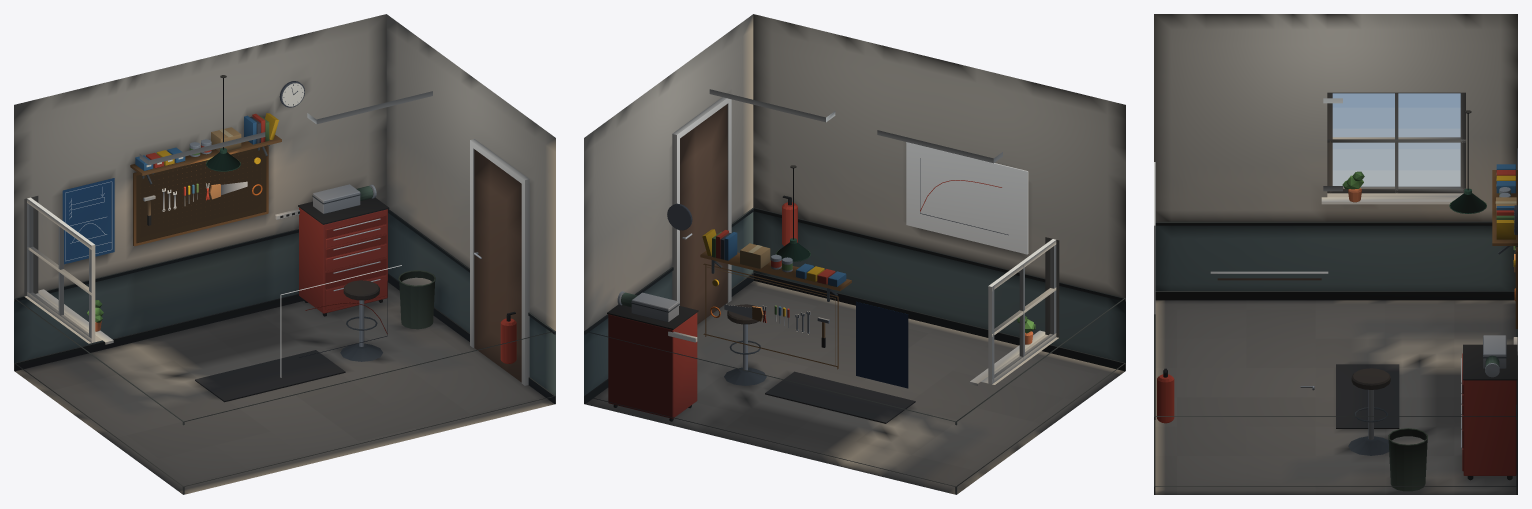
The model's file is workshop.glb.
The picture shows the model from 3 angles, left to right: view 1: azimuth 30°, elevation 25°; view 2: azimuth 150°, elevation 25°; view 3: azimuth 270°, elevation 25°; orthographic projection. The views are drawn at different scales.
Parts seen in each view (by area): view 1: workshop_mesh; view 2: workshop_mesh; view 3: workshop_mesh.
Boxes of the visible parts, x1,y1,x2,y2 form: workshop_mesh: (14, 14, 555, 494); workshop_mesh: (584, 14, 1125, 494); workshop_mesh: (1154, 14, 1517, 494).
Size of the model in its own units: 4.15 by 2.73 by 3.15.
